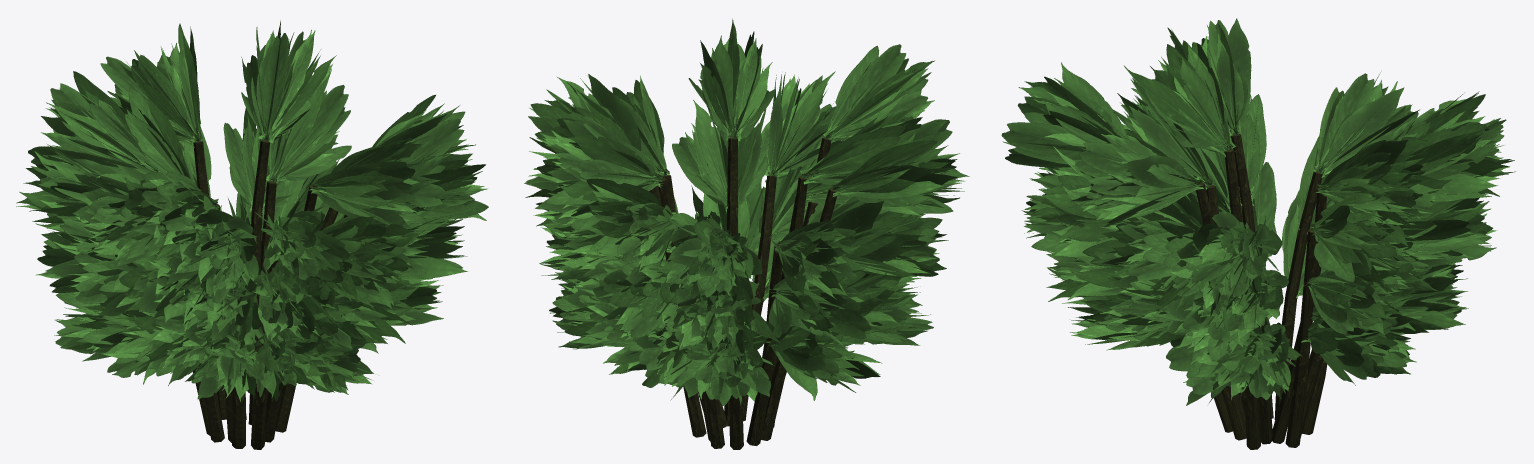
The model's file is understory_ginger_v01.fbx.
The picture shows the model from 3 angles, left to right: view 1: azimuth 30°, elevation 25°; view 2: azimuth 150°, elevation 25°; view 3: azimuth 270°, elevation 25°; orthographic projection. The views are drawn at different scales.
Visible parts, largest first — view 1: understory_ginger_v01; view 2: understory_ginger_v01; view 3: understory_ginger_v01.
Part boxes in pixels (x1,y1,x2,y2): understory_ginger_v01: (16,20,488,449); understory_ginger_v01: (524,18,969,449); understory_ginger_v01: (1001,18,1515,449).
Size of the model in its own units: 124 by 98.77 by 131.
Materials: 2 (2 with a texture image).
